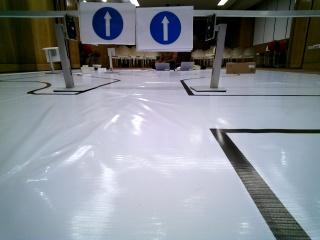straight: (136, 6, 192, 50), (82, 2, 134, 44)
